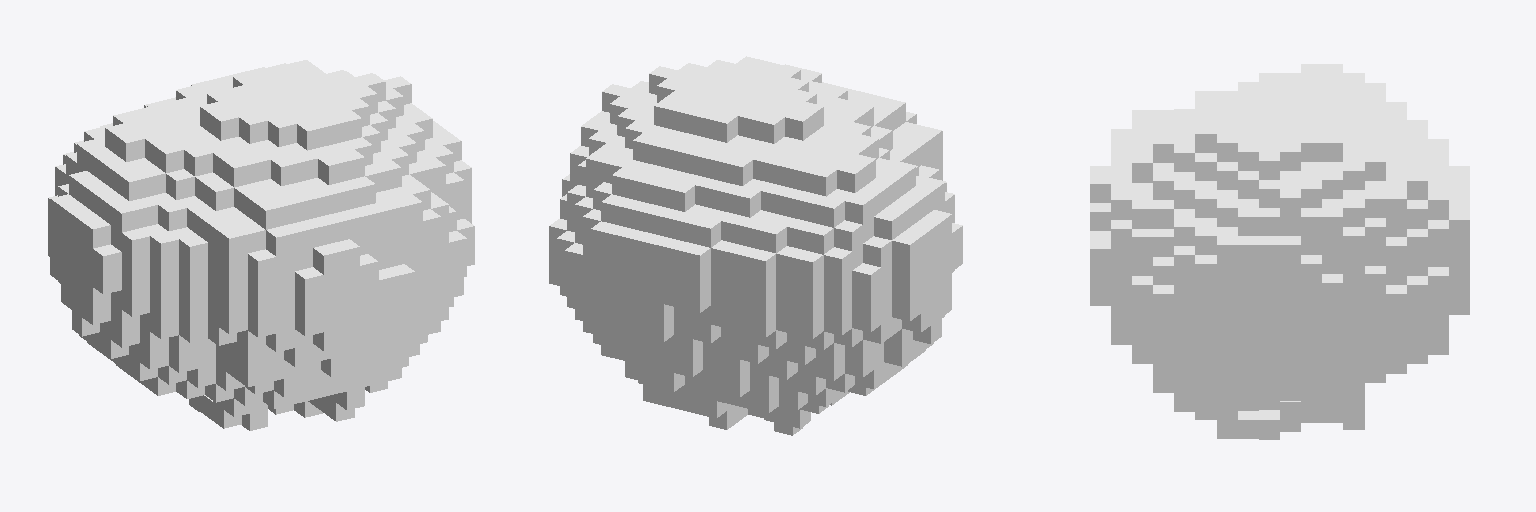
Rendered from Bush4.obj.
3 renders of one model, left to right at view 1: azimuth 30°, elevation 25°; view 2: azimuth 150°, elevation 25°; view 3: azimuth 270°, elevation 25°, orthographic.
Visible parts, largest first — view 1: Bush4; view 2: Bush4; view 3: Bush4.
Part boxes in pixels (x1,y1,x2,y2): Bush4: (48,60,474,430); Bush4: (549,56,962,435); Bush4: (1090,64,1469,439).
Size of the model in its own units: 1.9 by 1.6 by 1.8.